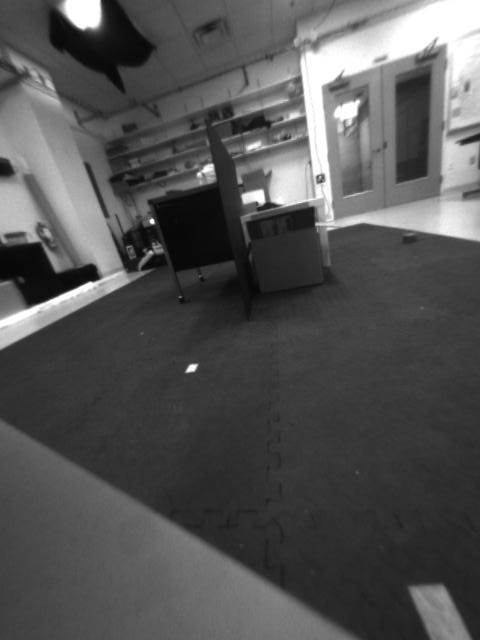dogtoy: (397, 227, 427, 250)
